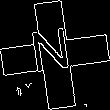N_S: (31, 27, 79, 83)
